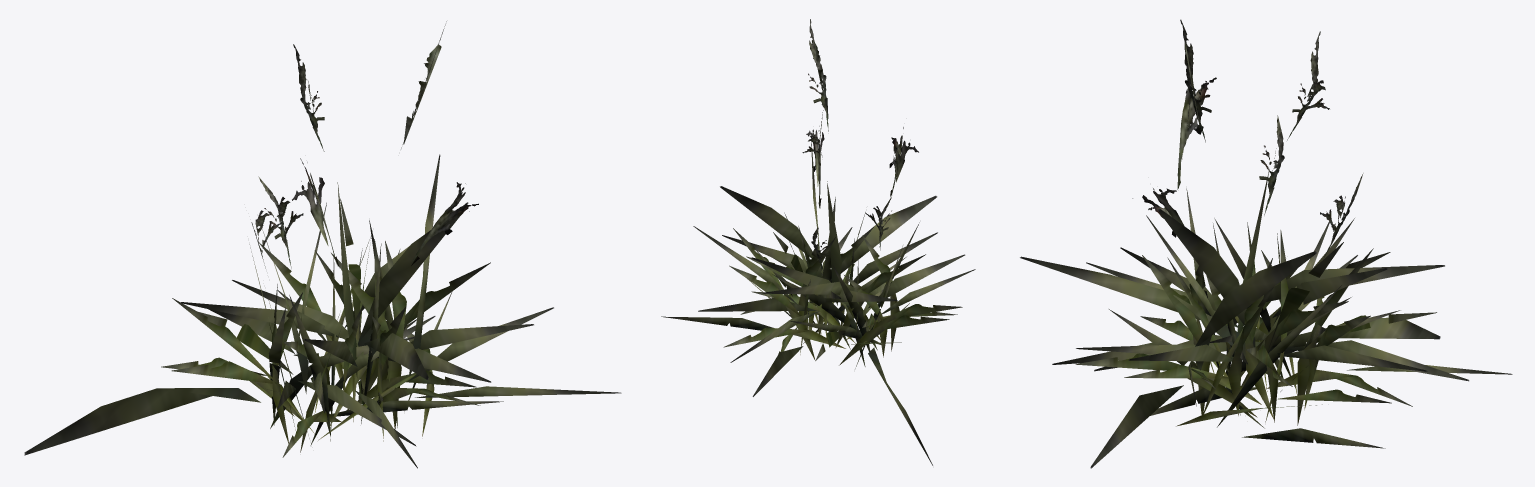
3 renders of one model, left to right at view 1: azimuth 30°, elevation 25°; view 2: azimuth 150°, elevation 25°; view 3: azimuth 270°, elevation 25°, orthographic. The views are drawn at different scales.
Parts seen in each view (by area): view 1: grass_medium_01_mid_a_LOD0; view 2: grass_medium_01_mid_a_LOD0; view 3: grass_medium_01_mid_a_LOD0.
Part boxes in pixels (box(x1,y1,x2,y2)): grass_medium_01_mid_a_LOD0: box(24, 21, 621, 468); grass_medium_01_mid_a_LOD0: box(661, 19, 975, 465); grass_medium_01_mid_a_LOD0: box(1020, 19, 1512, 468).
Size of the model in its own units: 0.974 by 0.9789 by 0.9496.
1 material, 1 textured.
